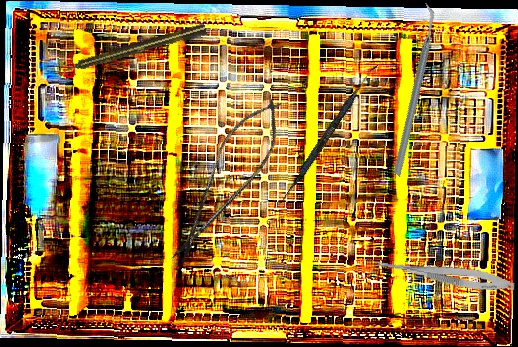Chopper: (333, 2, 493, 178)
Handpiece: (60, 22, 208, 77)
Micro Scissor: (158, 86, 297, 275), (366, 254, 517, 296)
Spatula Surgical: (278, 60, 379, 207)
